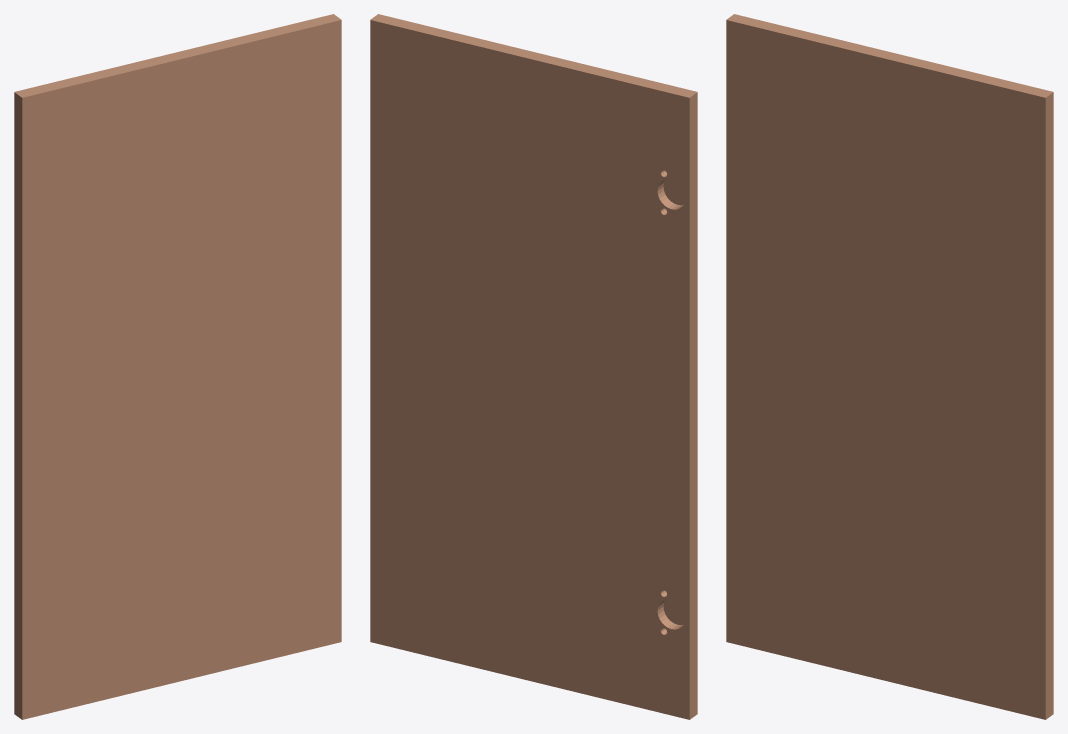
File: B3_dor_venstre.glb
The picture shows the model from 3 angles, left to right: view 1: azimuth 30°, elevation 25°; view 2: azimuth 150°, elevation 25°; view 3: azimuth 330°, elevation 25°; orthographic projection.
Size of the model in its own units: 397 by 738 by 17.4.
